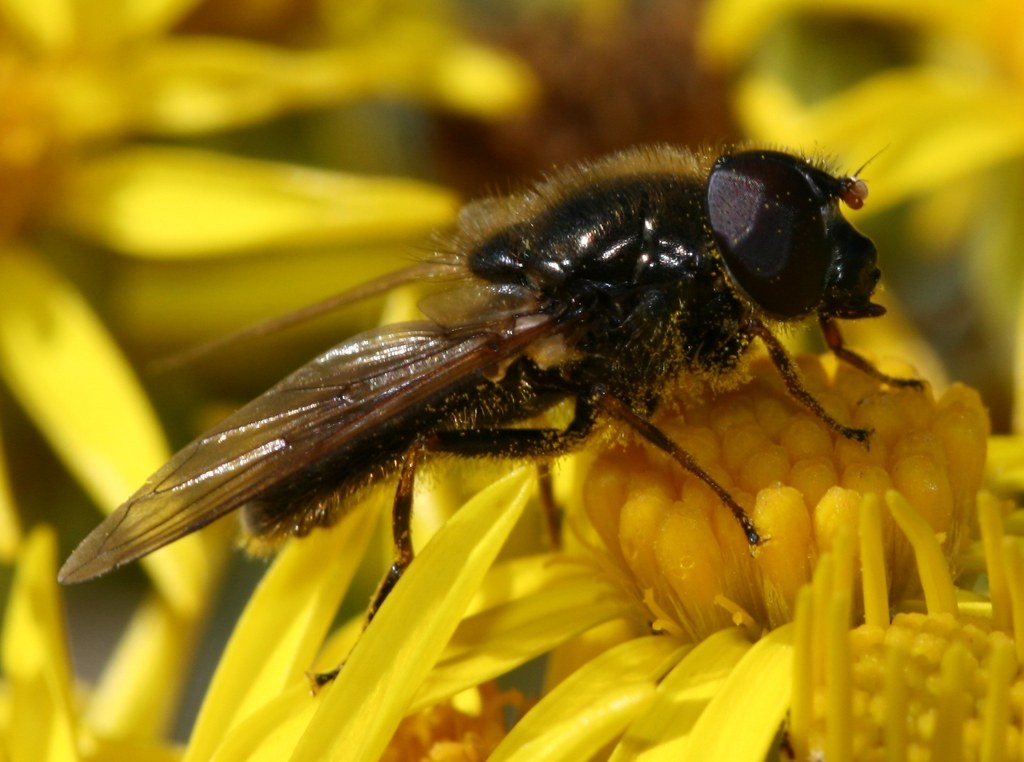bee: (58, 143, 936, 686)
insect: (221, 354, 1023, 761)
